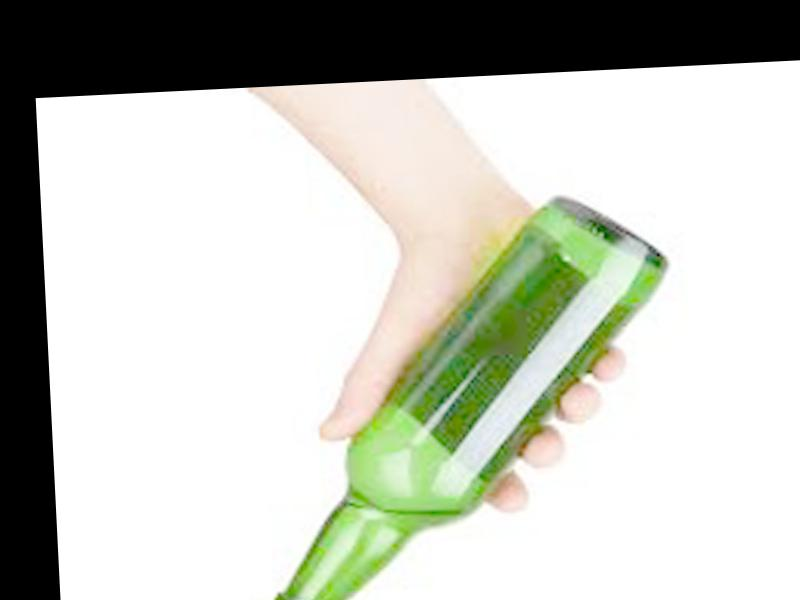Beer: (237, 184, 681, 600)
